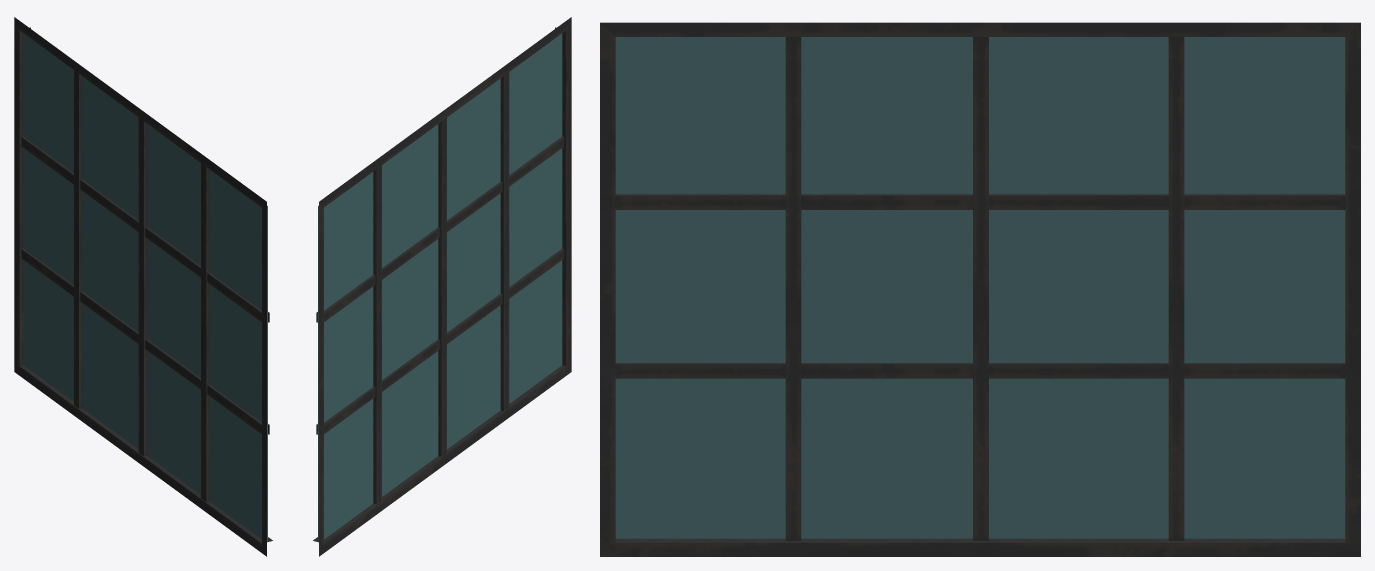
File: WindowPanel.fbx
3 renders of one model, left to right at view 1: azimuth 30°, elevation 25°; view 2: azimuth 150°, elevation 25°; view 3: azimuth 270°, elevation 25°, orthographic. The views are drawn at different scales.
Visible parts, largest first — view 1: Glass, Frame; view 2: Glass, Frame; view 3: Glass, Frame.
Part boxes in pixels (box(x1,y1,x2,y2)): Glass: box(23, 33, 267, 542); Frame: box(14, 17, 272, 556); Glass: box(318, 33, 562, 542); Frame: box(313, 17, 571, 556); Glass: box(615, 37, 1345, 538); Frame: box(600, 22, 1360, 556).
Bounding box in the file's own units: 11.81 × 346 × 446.
